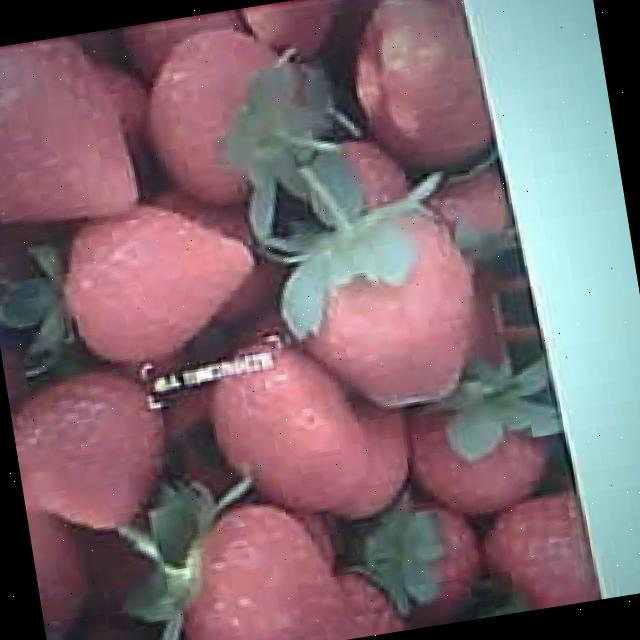strawberry: (17, 193, 264, 375), (286, 206, 486, 422), (0, 28, 142, 233), (168, 493, 347, 640)
